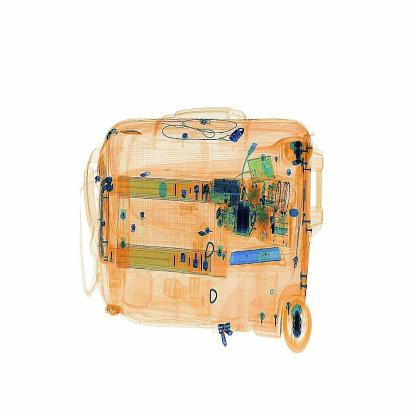pliers: (225, 236, 292, 273)
